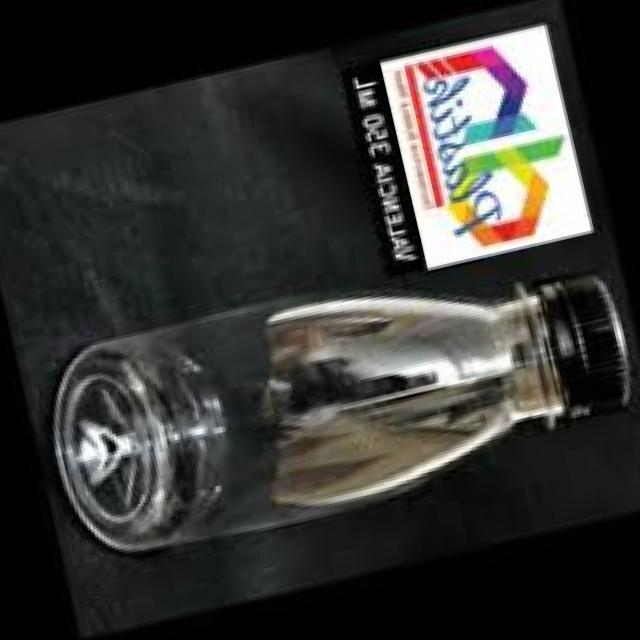good: (27, 207, 640, 576)
